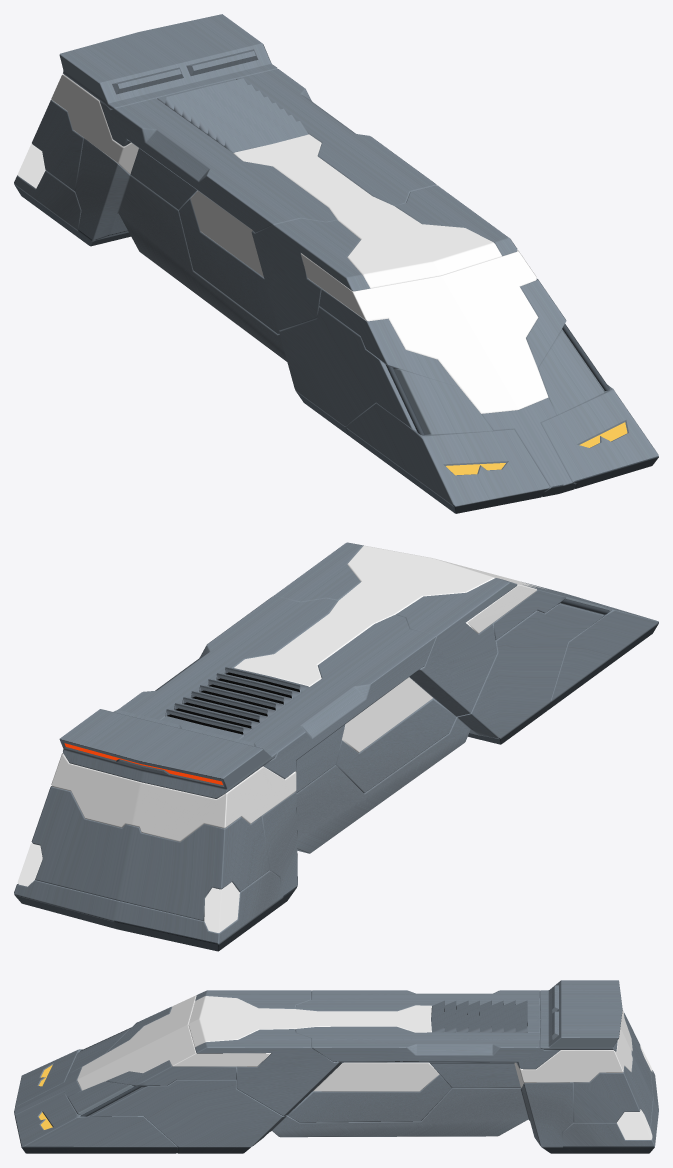
The model's file is Vehical 2 Outside.fbx.
The picture shows the model from 3 angles, top to bottom: view 1: azimuth 30°, elevation 25°; view 2: azimuth 150°, elevation 25°; view 3: azimuth 270°, elevation 25°; orthographic projection. The views are drawn at different scales.
Visible parts, largest first — view 1: Vehicle Shell Outside.002, Glass Outside.002, Door Right Outside.002; view 2: Vehicle Shell Outside.002, Glass Outside.002, Door Right Outside.002; view 3: Vehicle Shell Outside.002, Glass Outside.002, Door Left Outside.002.
Part boxes in pixels (x1=…): Vehicle Shell Outside.002: x1=14, y1=14, x2=658, y2=513; Glass Outside.002: x1=51, y1=74, x2=548, y2=413; Door Right Outside.002: x1=179, y1=191, x2=279, y2=334; Vehicle Shell Outside.002: x1=14, y1=542, x2=658, y2=951; Glass Outside.002: x1=51, y1=545, x2=545, y2=841; Door Right Outside.002: x1=335, y1=677, x2=456, y2=793; Vehicle Shell Outside.002: x1=14, y1=980, x2=658, y2=1153; Glass Outside.002: x1=77, y1=995, x2=632, y2=1090; Door Left Outside.002: x1=287, y1=1062, x2=451, y2=1122.
Bounding box in the file's own units: 404 × 290 × 1530.
